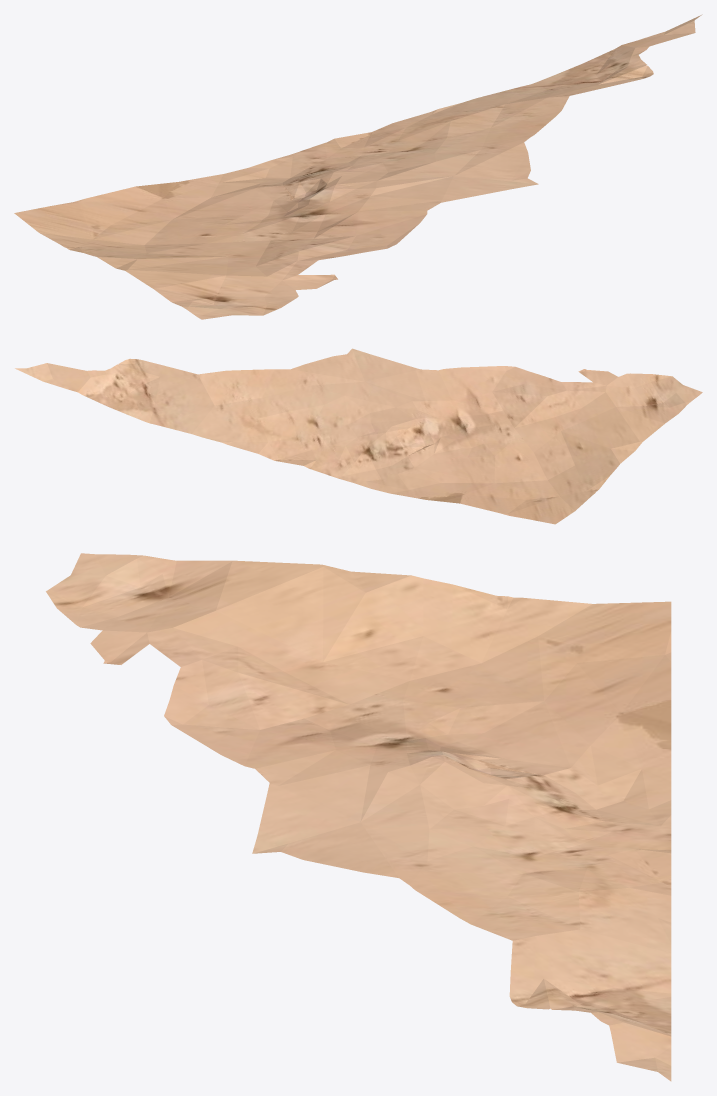
The picture shows the model from 3 angles, top to bottom: view 1: azimuth 30°, elevation 25°; view 2: azimuth 150°, elevation 25°; view 3: azimuth 270°, elevation 25°; orthographic projection. The views are drawn at different scales.
Bounding box in the file's own units: 1.04 × 0.0617 × 0.5206.
Materials: 1 (1 with a texture image).
